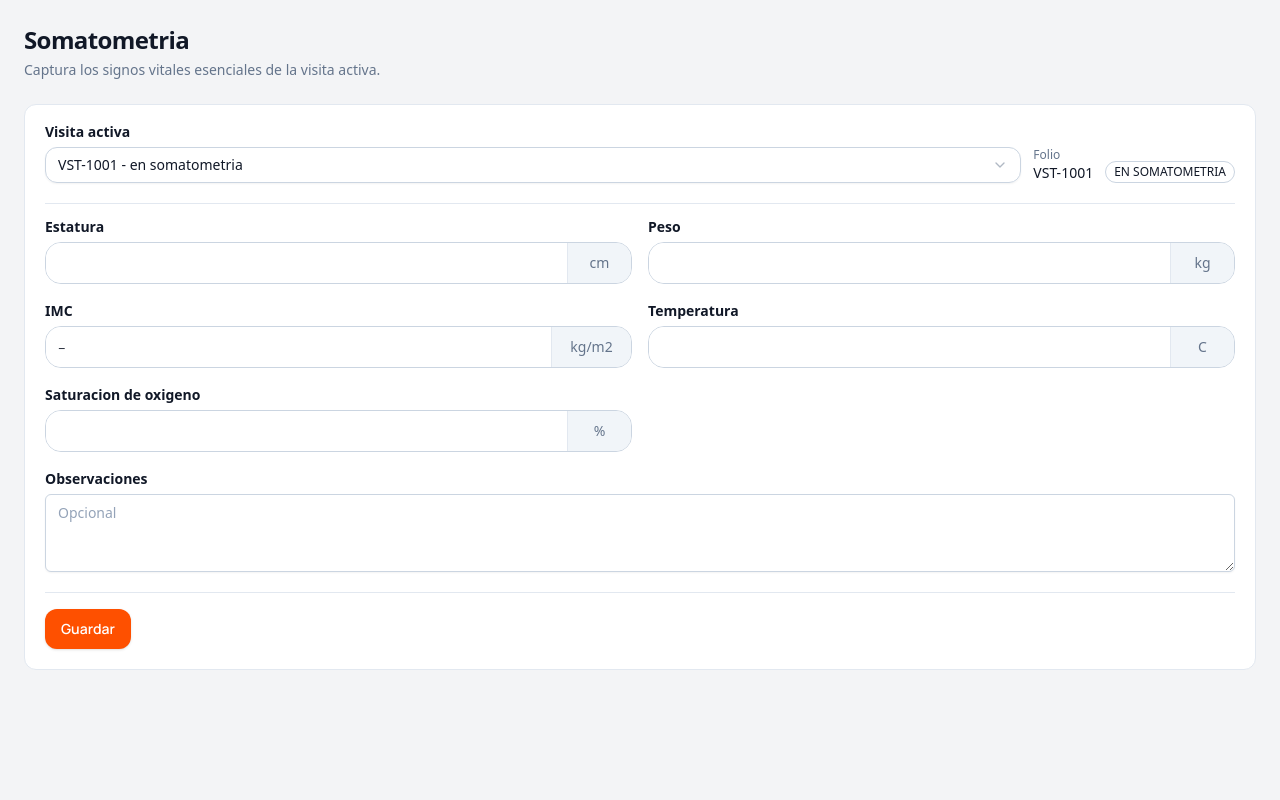
Test: SomatometriaCapturePage UI › muestra IMC estimado en tiempo real con peso y talla
The image size is (1280, 800).
Type "70" into the number field labelled "Peso" at (910, 263), box [649,243,1170,283]
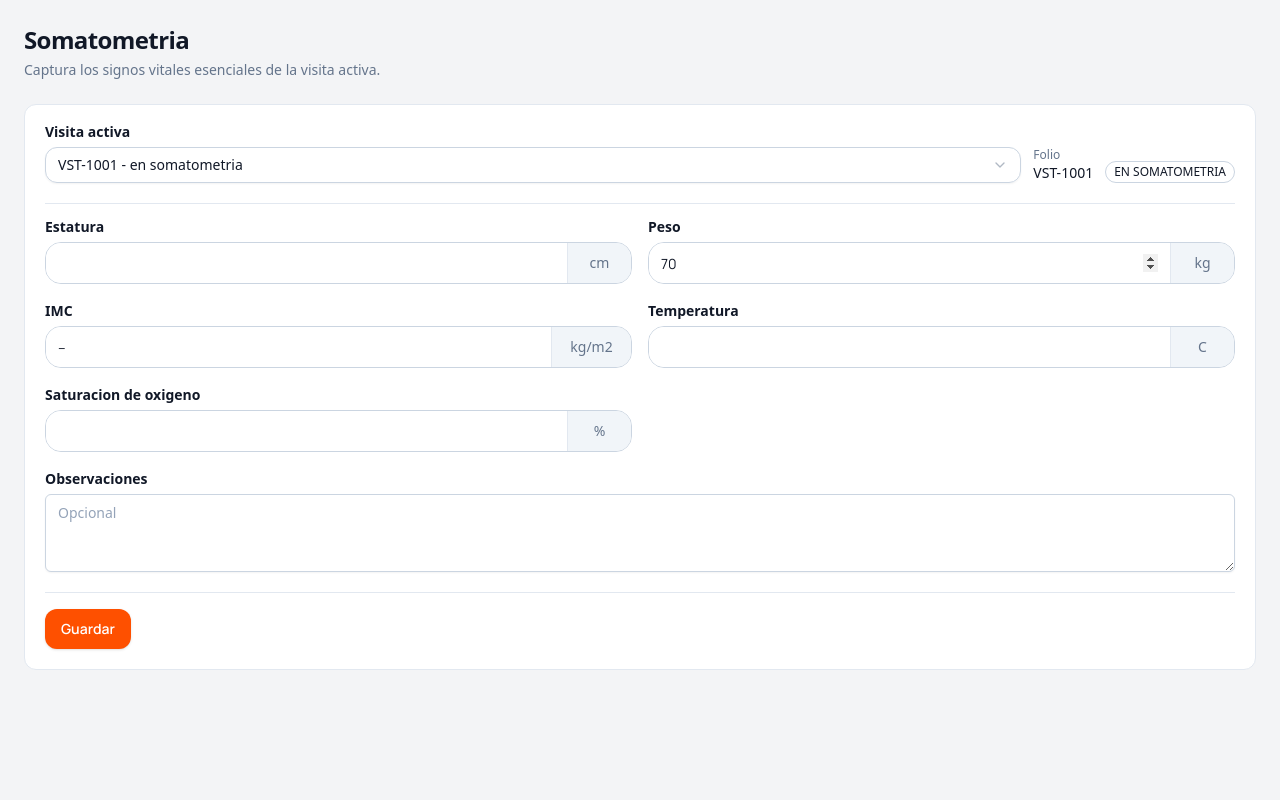
Type "175" into the number field labelled "Estatura" at (306, 263), box [46,243,567,283]
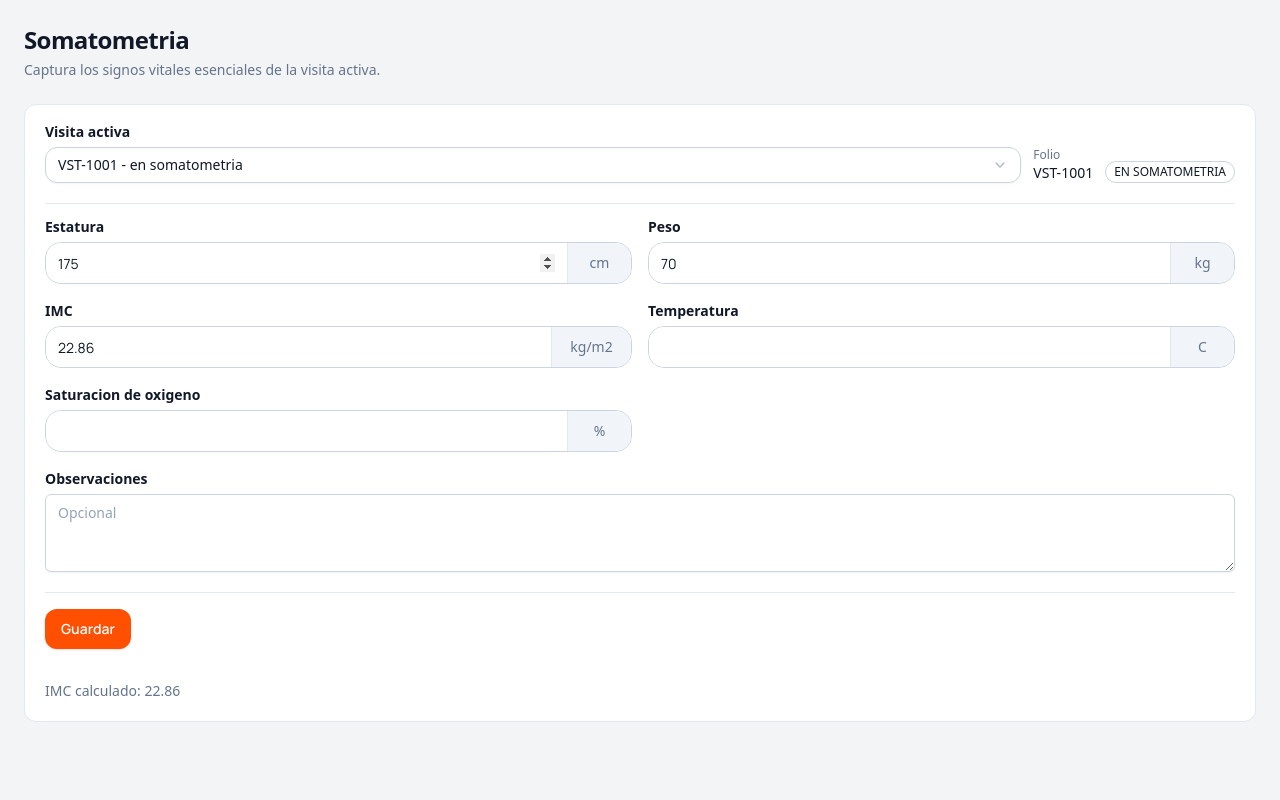
Now the text "IMC calculado: 22.86" is shown, box [45,681,180,700]
